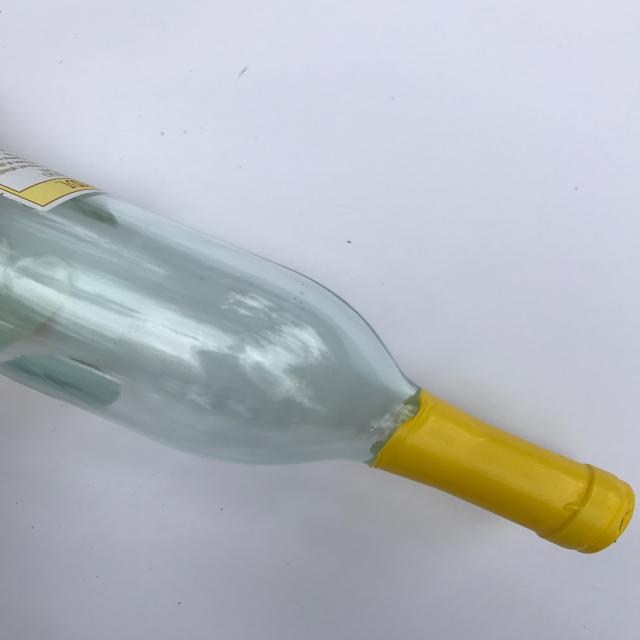glass: (0, 137, 636, 554)
